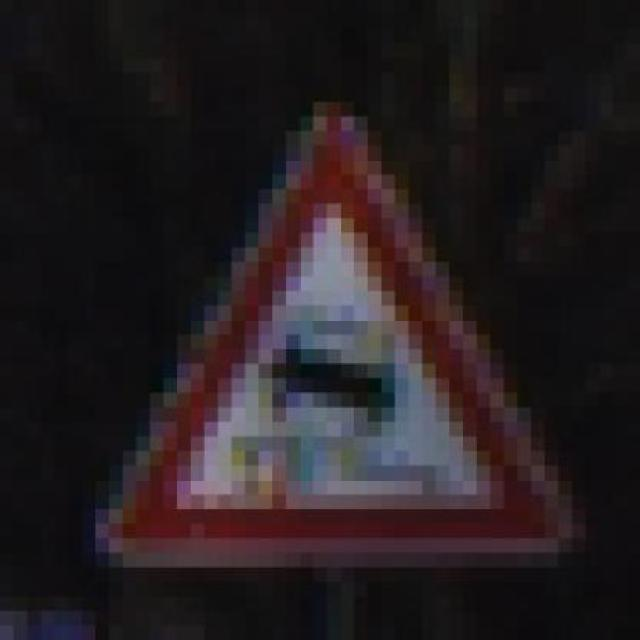Slippery Road Ahead: (96, 87, 586, 567)
